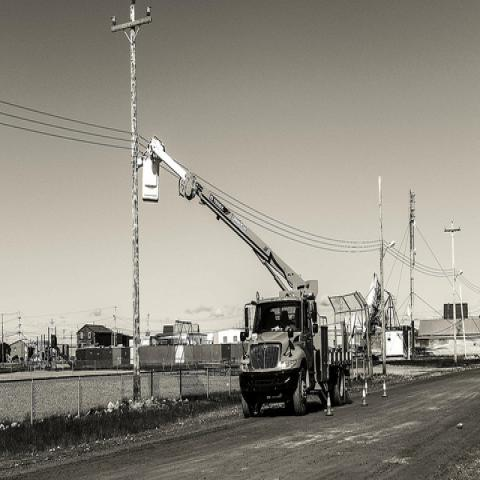truck: (137, 135, 355, 419)
